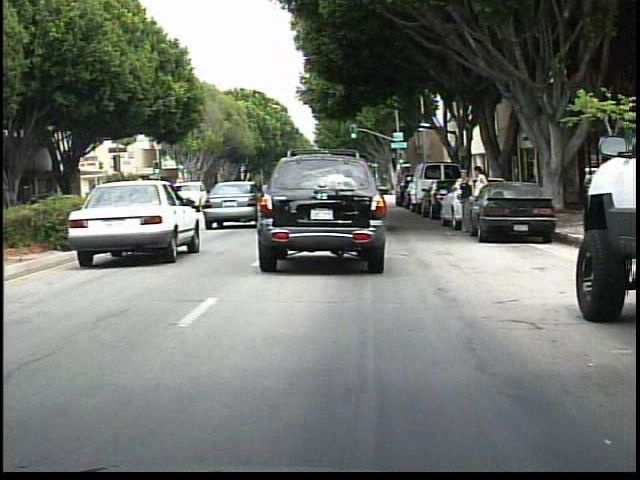person: (456, 168, 478, 239), (469, 164, 491, 234)
